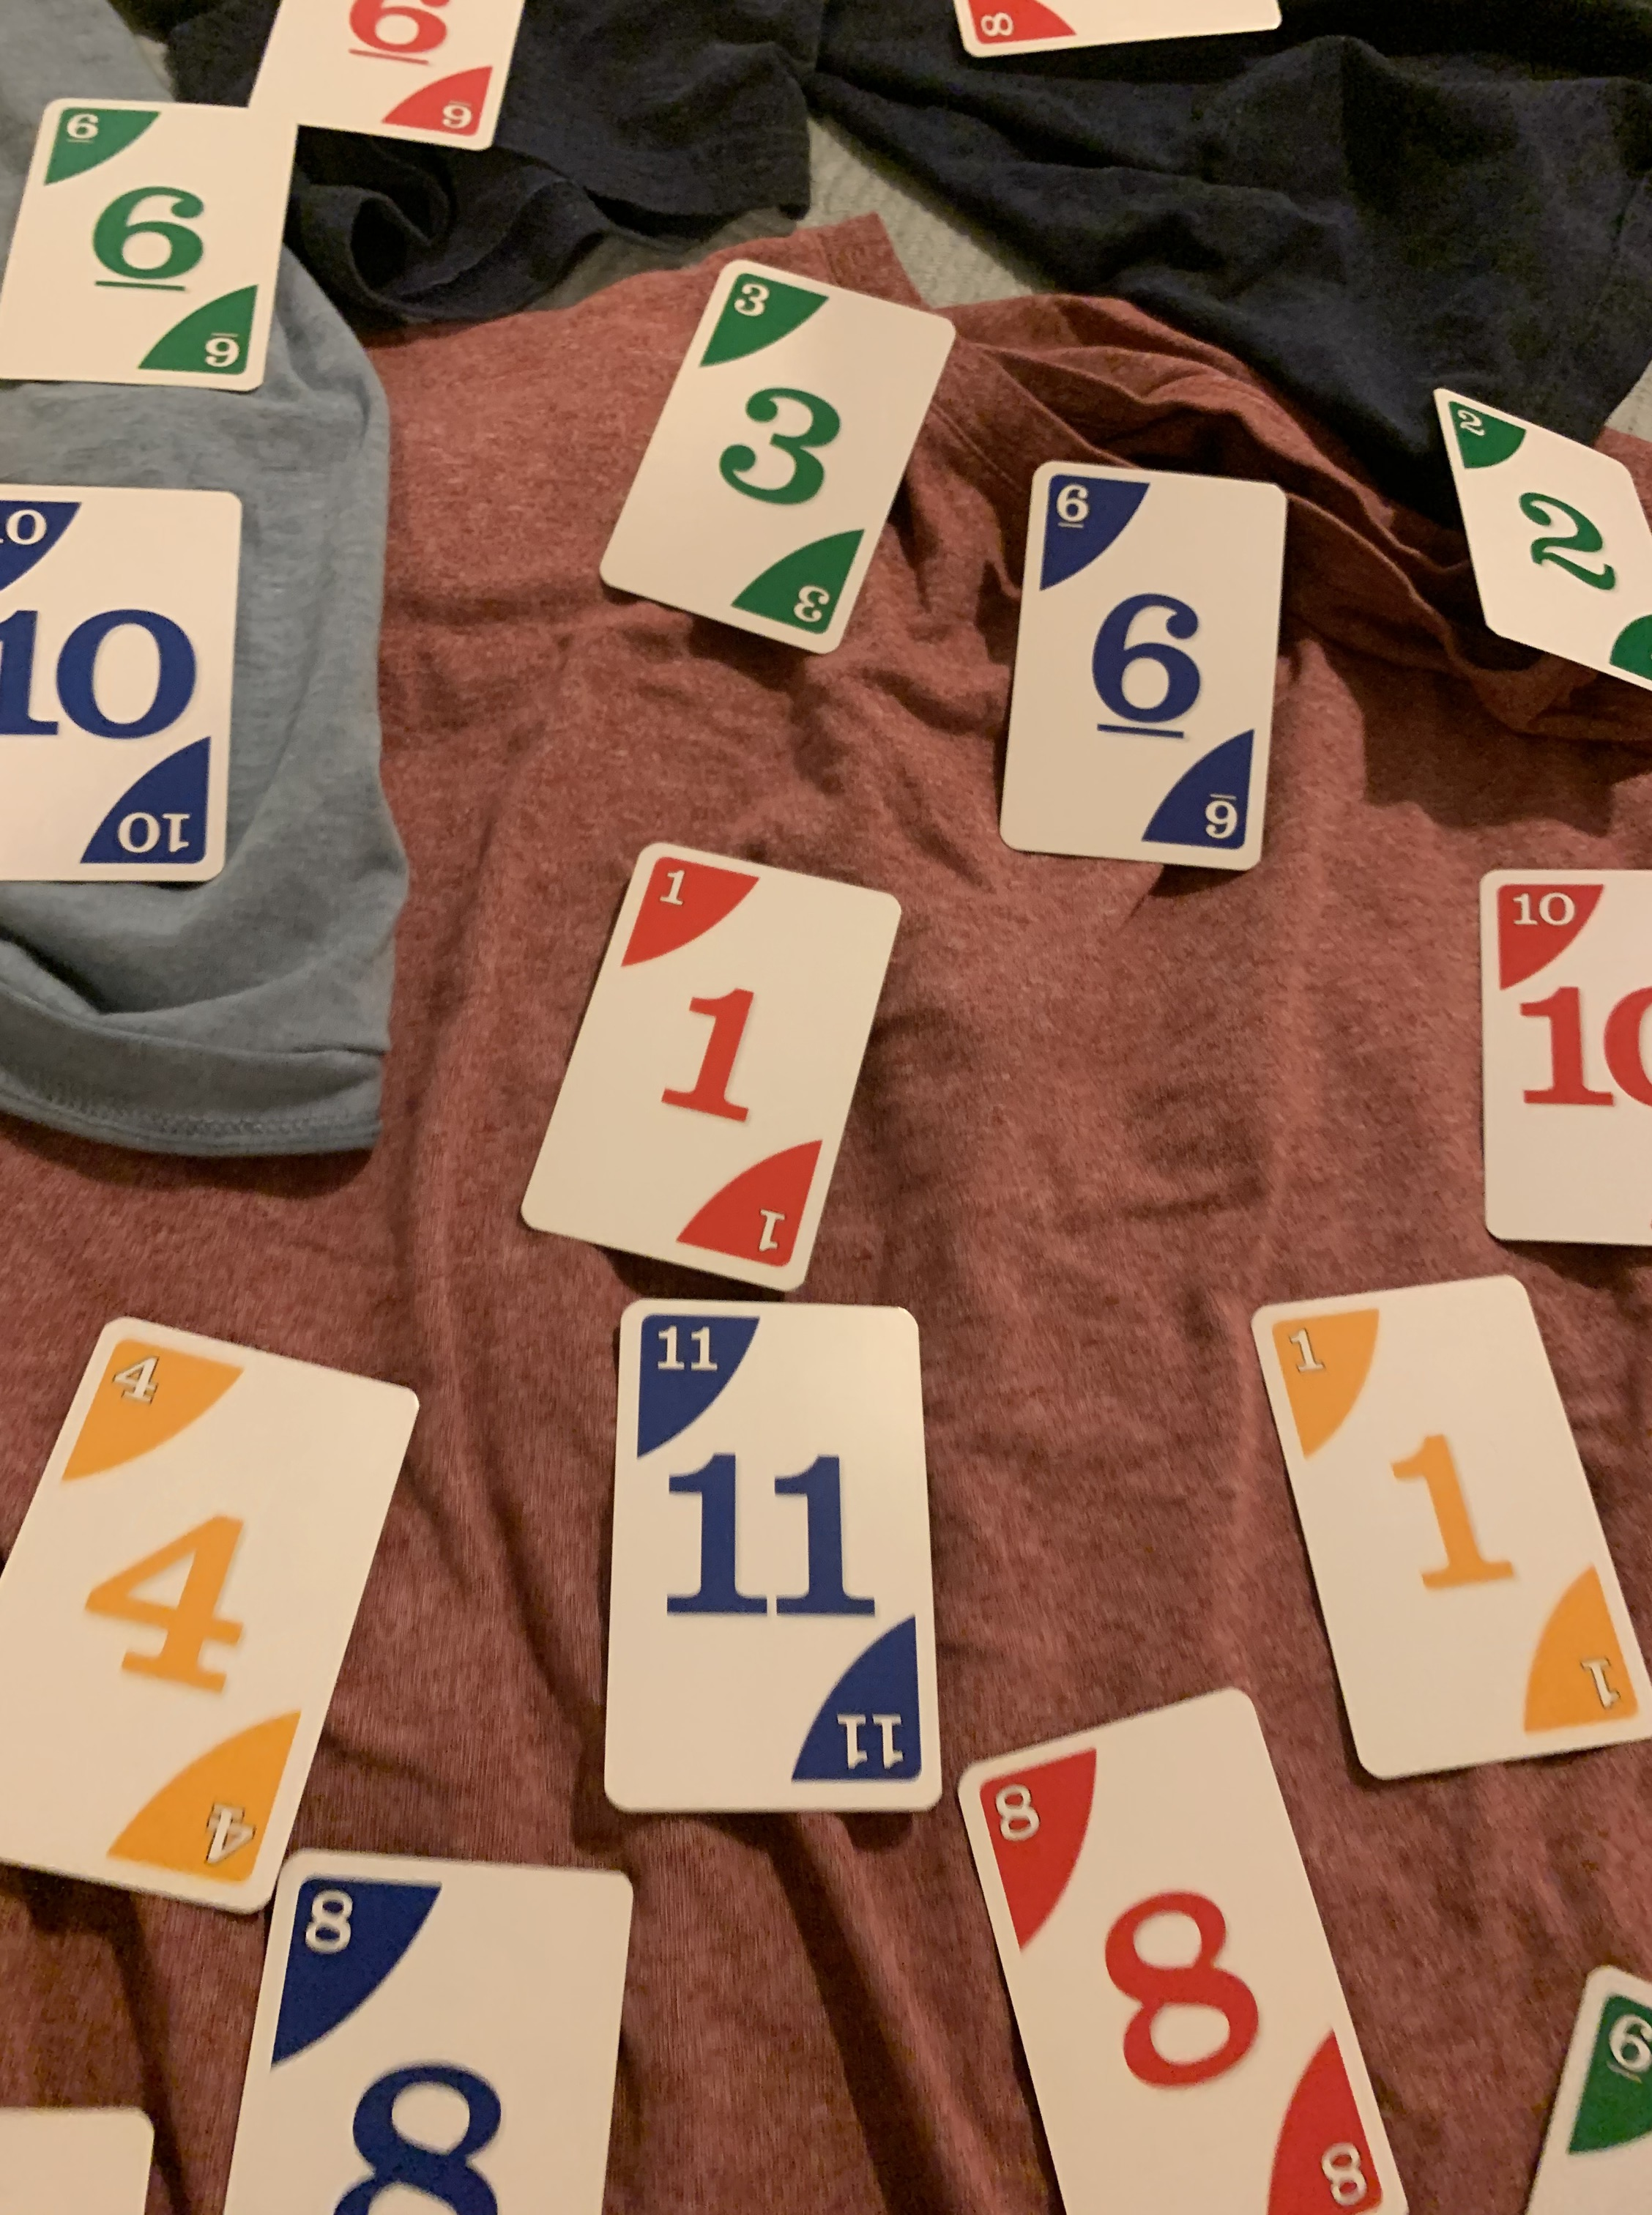eight: (953, 1677, 1432, 2215)
eleven: (588, 1269, 961, 1840)
four: (0, 1300, 436, 1927)
one: (1229, 1267, 1652, 1797), (507, 831, 915, 1307)
six: (980, 450, 1303, 889), (0, 87, 309, 408)
ten: (0, 460, 252, 908)
three: (588, 248, 967, 674)
